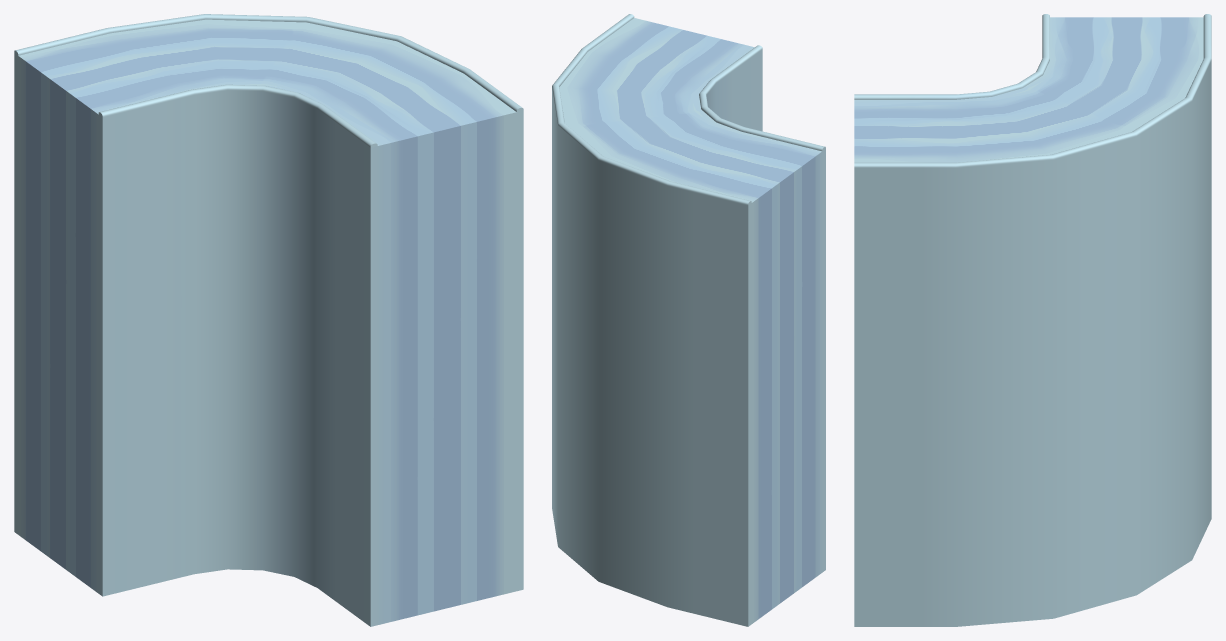
Rendered from Platform_Left.fbx.
The picture shows the model from 3 angles, left to right: view 1: azimuth 30°, elevation 25°; view 2: azimuth 150°, elevation 25°; view 3: azimuth 270°, elevation 25°; orthographic projection. The views are drawn at different scales.
Visible parts, largest first — view 1: Platform_Left; view 2: Platform_Left; view 3: Platform_Left.
Boxes of the visible parts, x1,y1,x2,y2 form: Platform_Left: (14, 14, 523, 626); Platform_Left: (552, 14, 825, 626); Platform_Left: (854, 14, 1211, 626).
Size of the model in its own units: 18.98 by 27.09 by 18.98.
